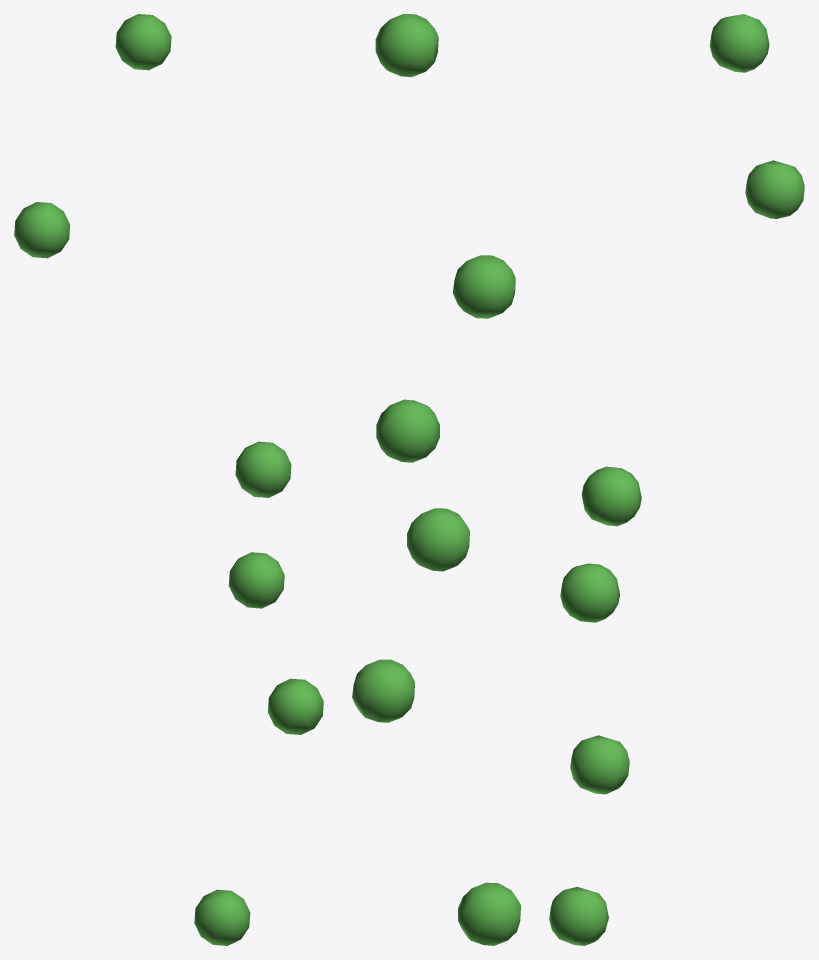
Rendered from linfatico-anterior-inferior-jugular-nodes-r.glb.
3 views of the same model, side by side, from view 1: azimuth 30°, elevation 25°; view 2: azimuth 150°, elevation 25°; view 3: azimuth 270°, elevation 25° (orthographic). The views are drawn at different scales.
Parts seen in each view (by area): view 1: Anterior inferior jugular nodes.r; view 2: Anterior inferior jugular nodes.r; view 3: Anterior inferior jugular nodes.r.
Part boxes in pixels (<box>): Anterior inferior jugular nodes.r: <box>14,14,323,945</box>; Anterior inferior jugular nodes.r: <box>352,14,520,945</box>; Anterior inferior jugular nodes.r: <box>549,14,804,945</box>.
Size of the model in its own units: 0.0115 by 0.0436 by 0.0109.
